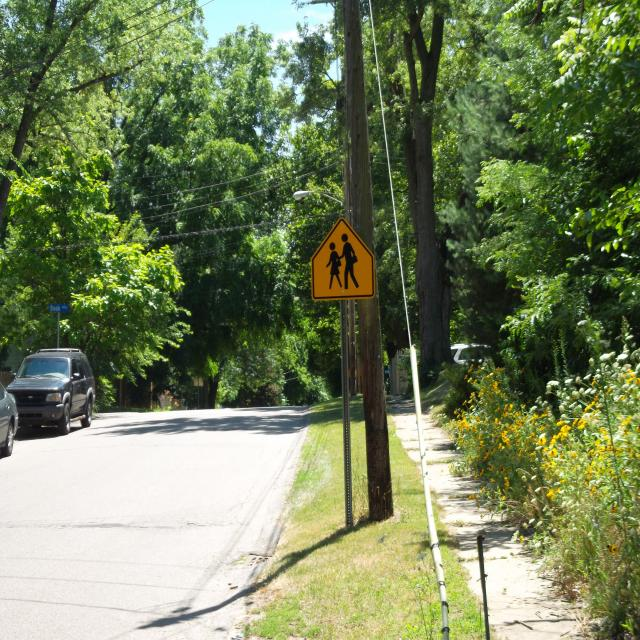warning: (308, 216, 377, 300)
